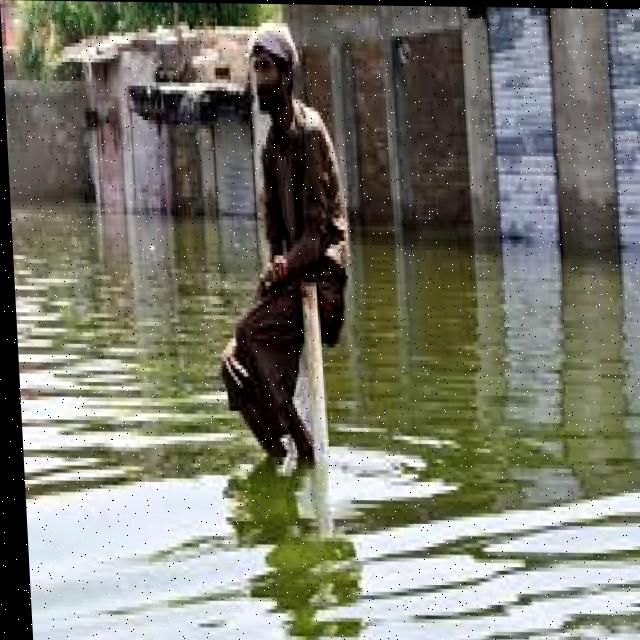civilian: (194, 9, 374, 478)
